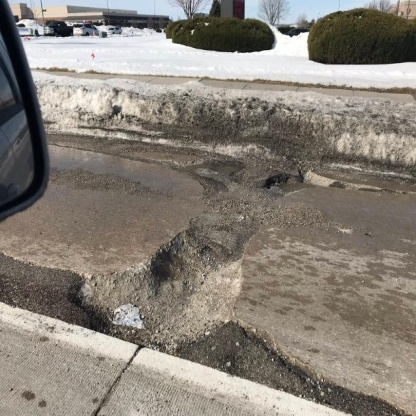pothole: (59, 212, 254, 385), (169, 144, 353, 215)
